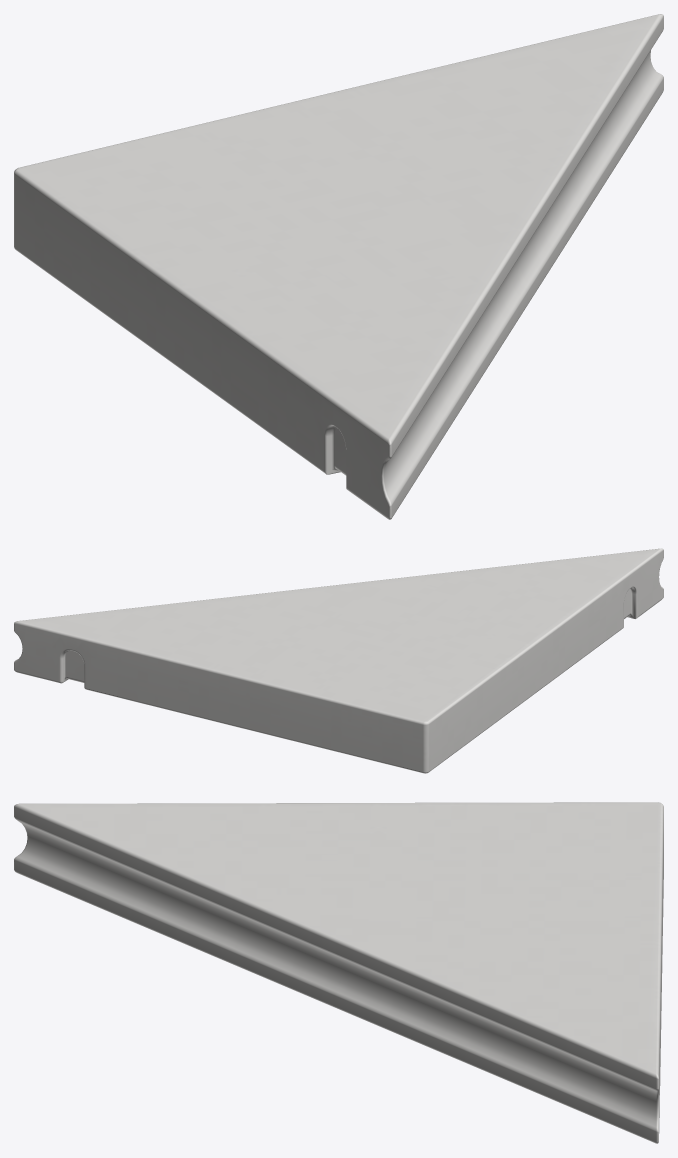
The model's file is B088HCKN9Q.glb.
3 renders of one model, top to bottom at view 1: azimuth 30°, elevation 25°; view 2: azimuth 150°, elevation 25°; view 3: azimuth 270°, elevation 25°, orthographic. The views are drawn at different scales.
Parts seen in each view (by area): view 1: RootNode; view 2: RootNode; view 3: RootNode.
Part boxes in pixels (x1,y1,x2,y2): RootNode: (14, 14, 663, 519); RootNode: (14, 548, 663, 773); RootNode: (14, 802, 663, 1143).
Size of the model in its own units: 0.2958 by 0.0351 by 0.2958.
1 material, 1 textured.
